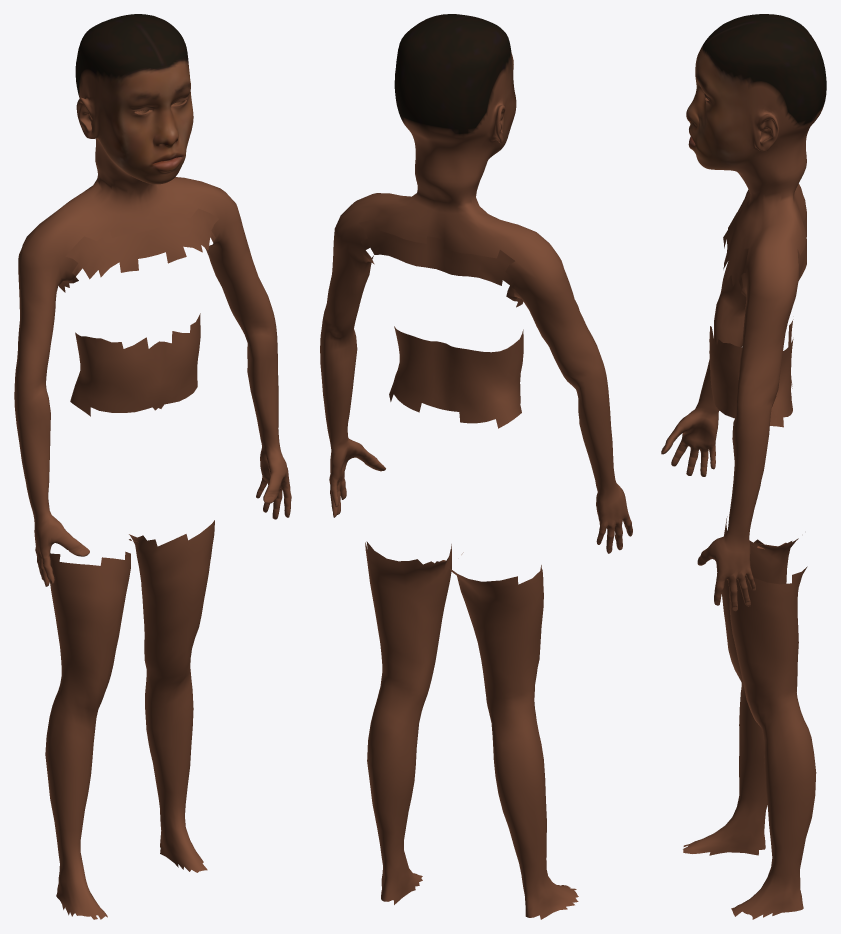
The model's file is streetwaer-portrait-v2.glb.
The picture shows the model from 3 angles, left to right: view 1: azimuth 30°, elevation 25°; view 2: azimuth 150°, elevation 25°; view 3: azimuth 270°, elevation 25°; orthographic projection. The views are drawn at different scales.
Visible parts, largest first — view 1: Skin, TorsoUnderOuterwear; view 2: Skin, TorsoUnderOuterwear; view 3: Skin, TorsoUnderOuterwear.
Part boxes in pixels (<box>): Skin: <box>14,14,291,919</box>; TorsoUnderOuterwear: <box>59,208,218,416</box>; Skin: <box>320,14,632,919</box>; TorsoUnderOuterwear: <box>359,219,523,428</box>; Skin: <box>661,14,826,919</box>; TorsoUnderOuterwear: <box>709,192,806,427</box>.
Size of the model in its own units: 1.08 by 3.29 by 0.5704.
